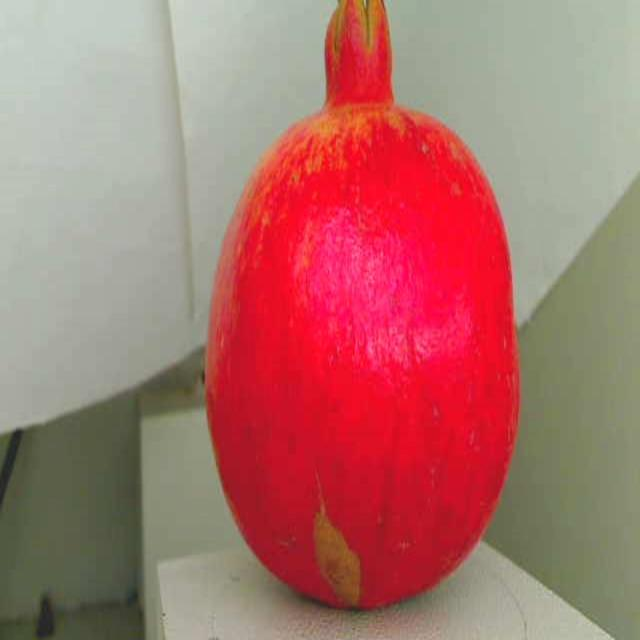pomegranate: (193, 0, 531, 629)
